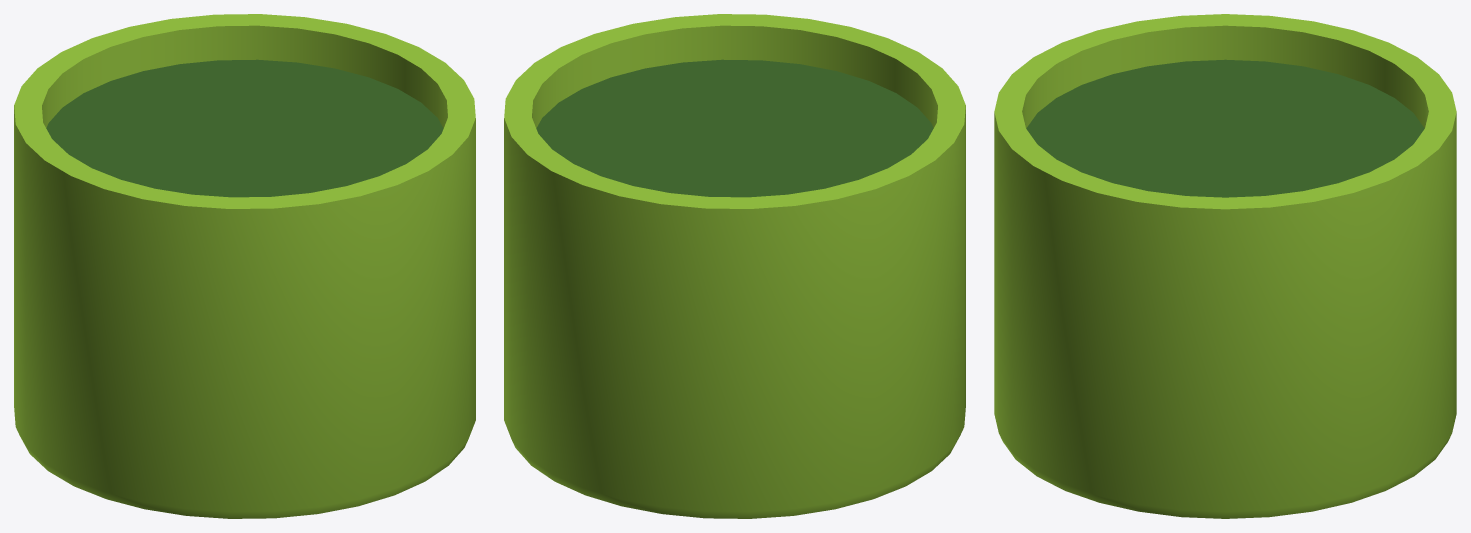
The model's file is maceta  verde.fbx.
3 views of the same model, side by side, from view 1: azimuth 30°, elevation 25°; view 2: azimuth 150°, elevation 25°; view 3: azimuth 270°, elevation 25° (orthographic).
Visible parts, largest first — view 1: Cylinder.003; view 2: Cylinder.003; view 3: Cylinder.003.
Part boxes in pixels (left/top/right/bottom): Cylinder.003: left=14, top=14, right=475, bottom=518; Cylinder.003: left=504, top=14, right=965, bottom=518; Cylinder.003: left=994, top=14, right=1456, bottom=518.
Size of the model in its own units: 1.86 by 1.4 by 1.86.
